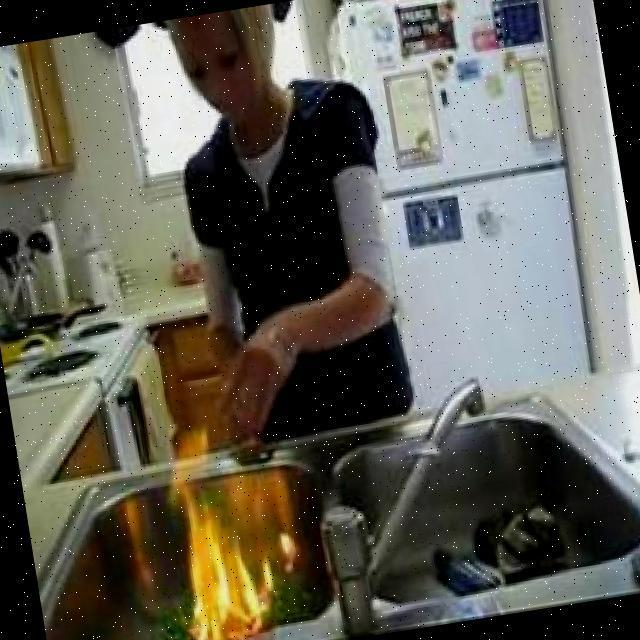Fire: (160, 453, 274, 640)
